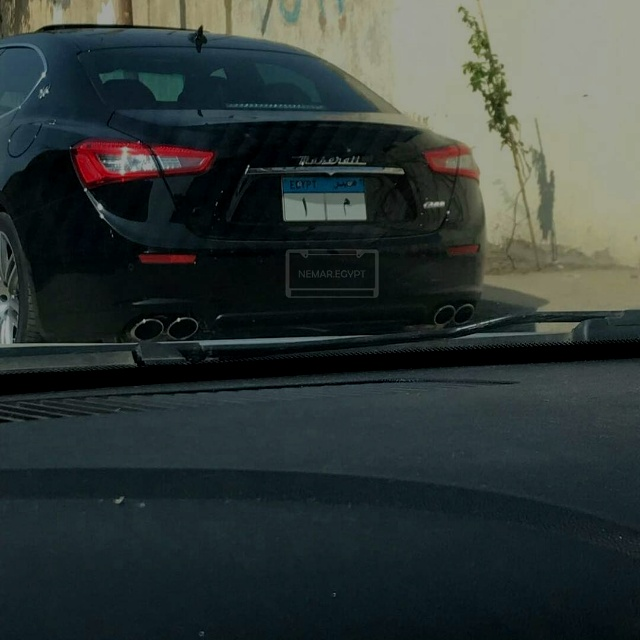License Plate: (277, 169, 375, 228)
